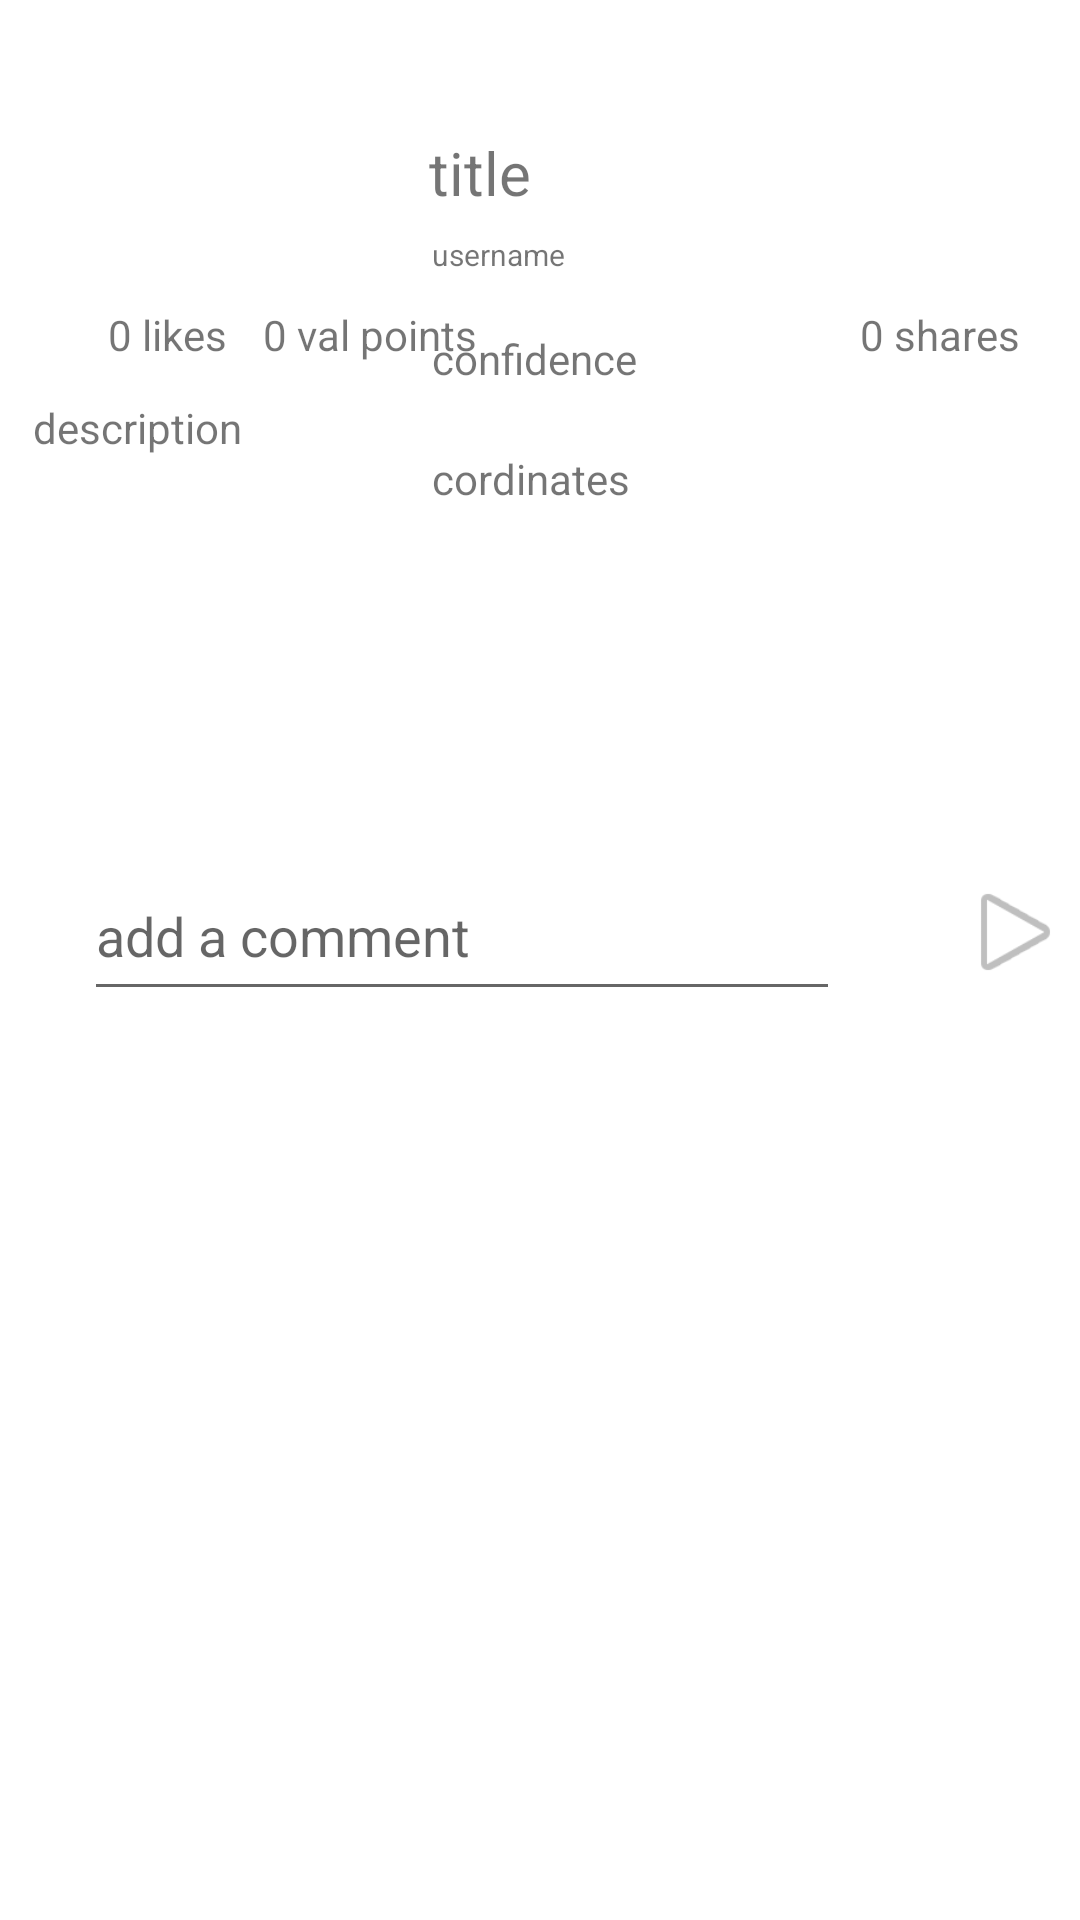

Screen size 1080×1920. Icon name, then its box in pixels as [x1, y1, x2, y2]:
play: [981, 894, 1050, 970]
